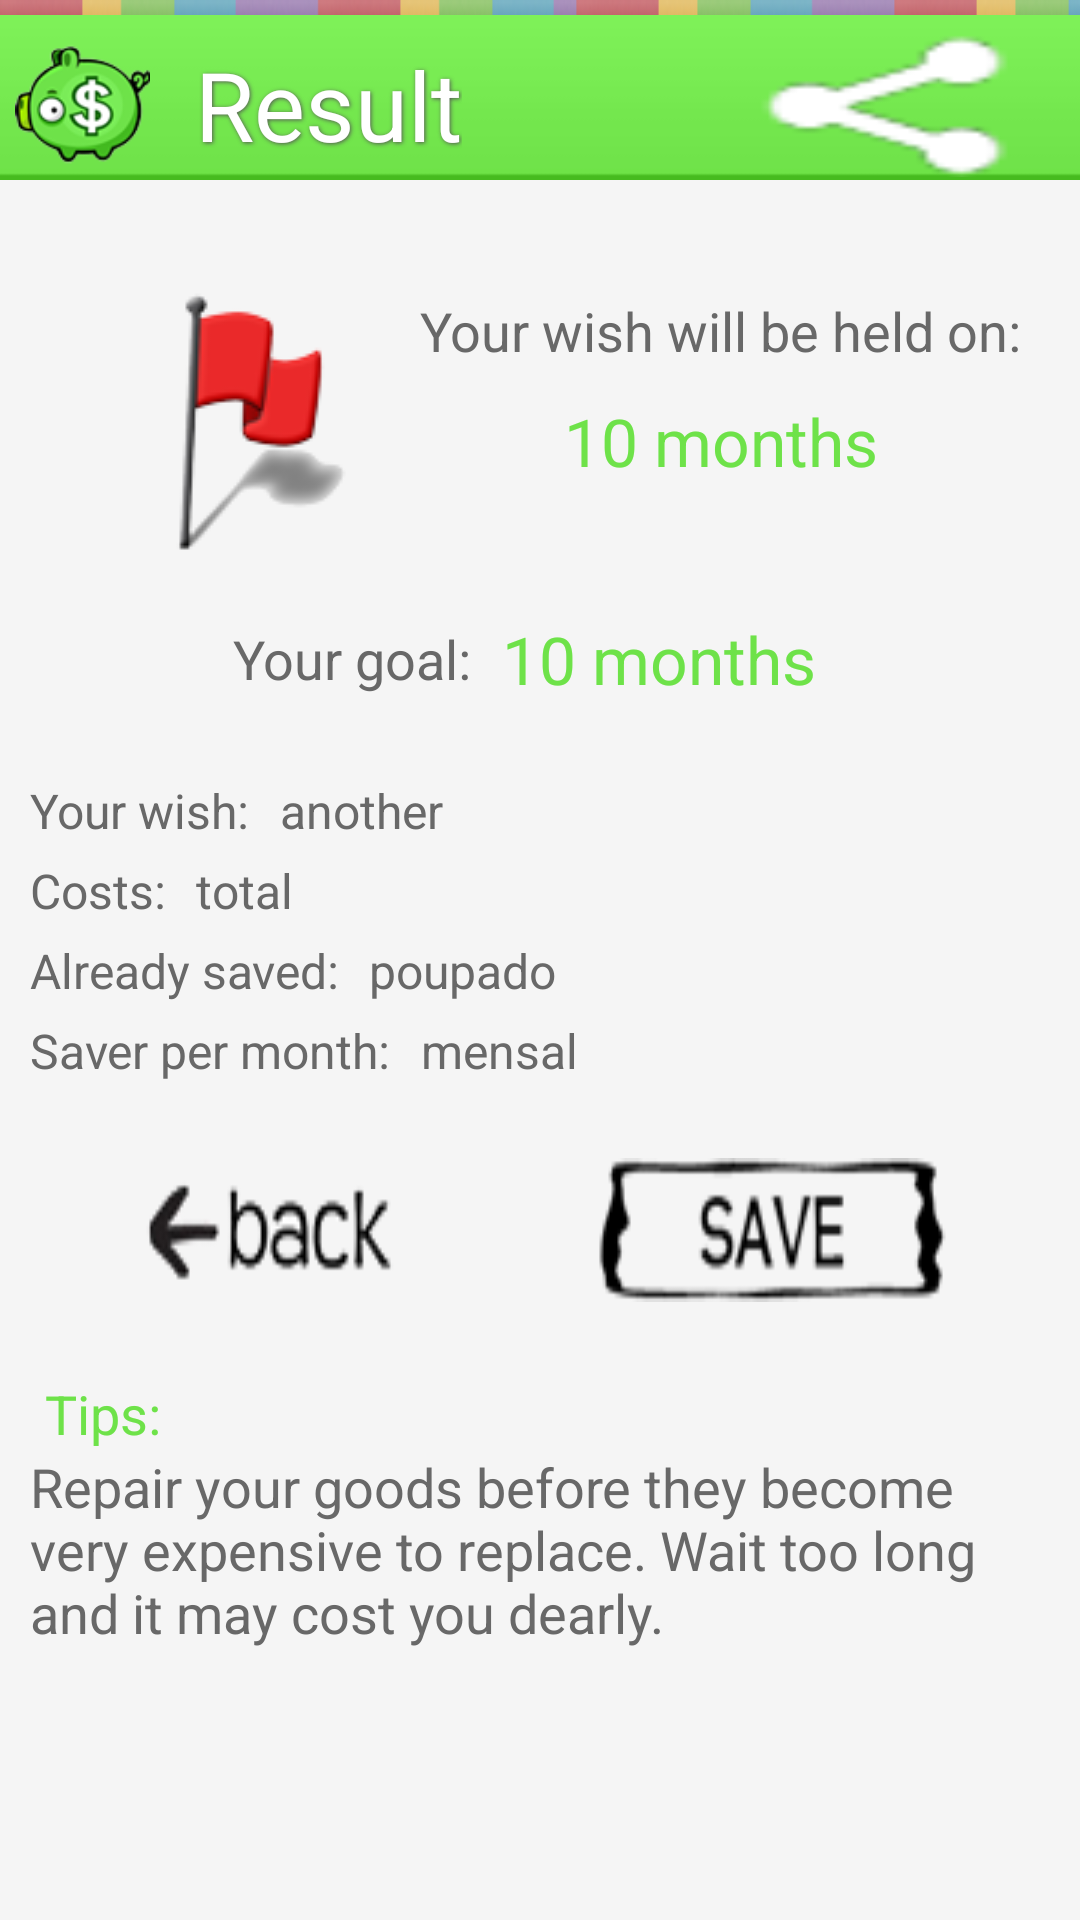

Screen size 1080*1920. Icon name, then its box in pixels as (x1, y1, x2, y2):
objetivo: (179, 296, 342, 550)
